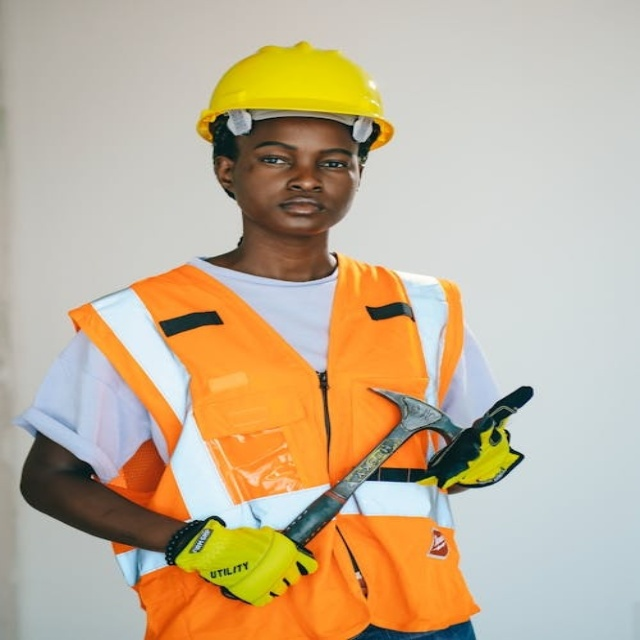Guantes: (168, 516, 319, 607), (420, 415, 523, 492)
Sin_gafas: (246, 139, 357, 176)
Sin_mascara: (268, 192, 330, 228)
